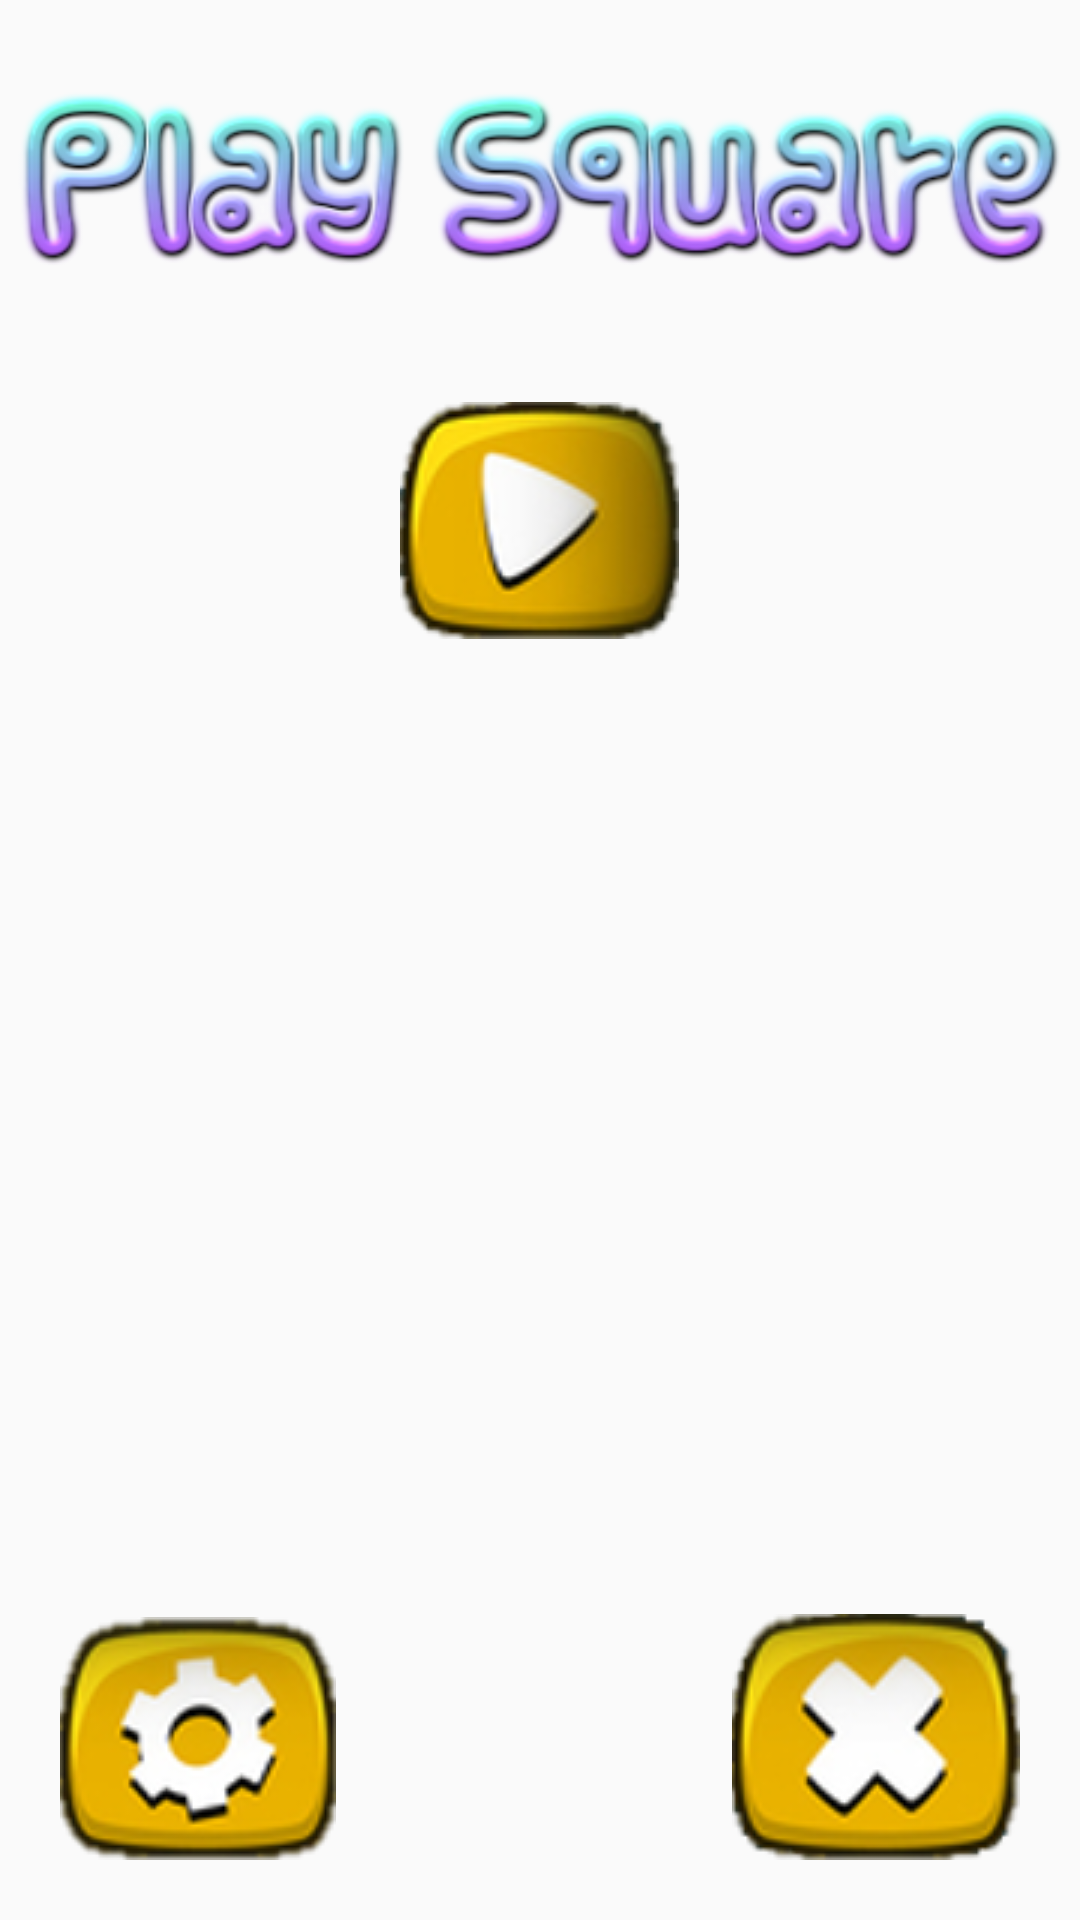

Where icons sit on this 1080*1920 app screen, as {"left": x1, "top": y1, "right": x2, "bottom": y2}:
closebtn: {"left": 732, "top": 1614, "right": 1020, "bottom": 1860}
playbtn: {"left": 400, "top": 402, "right": 679, "bottom": 639}
settingbtn: {"left": 60, "top": 1617, "right": 336, "bottom": 1860}
